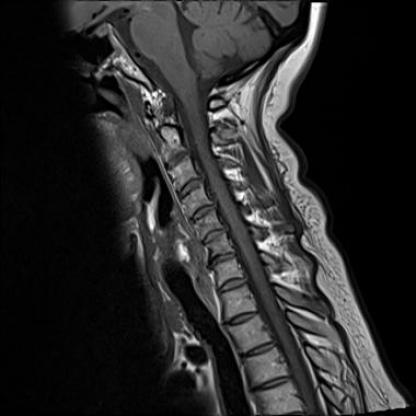Disc Bulgerotation: (188, 204, 218, 219), (207, 250, 237, 265), (200, 229, 228, 242)
